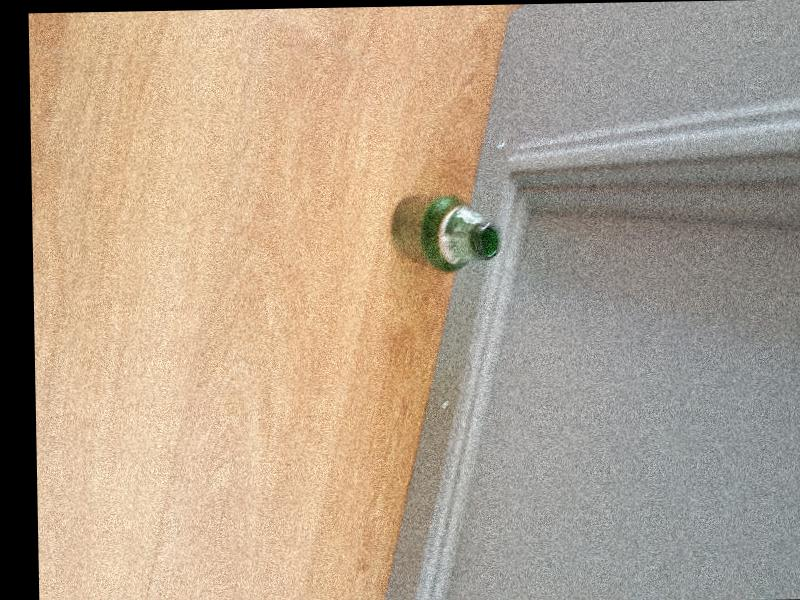Beer: (391, 195, 499, 272)
